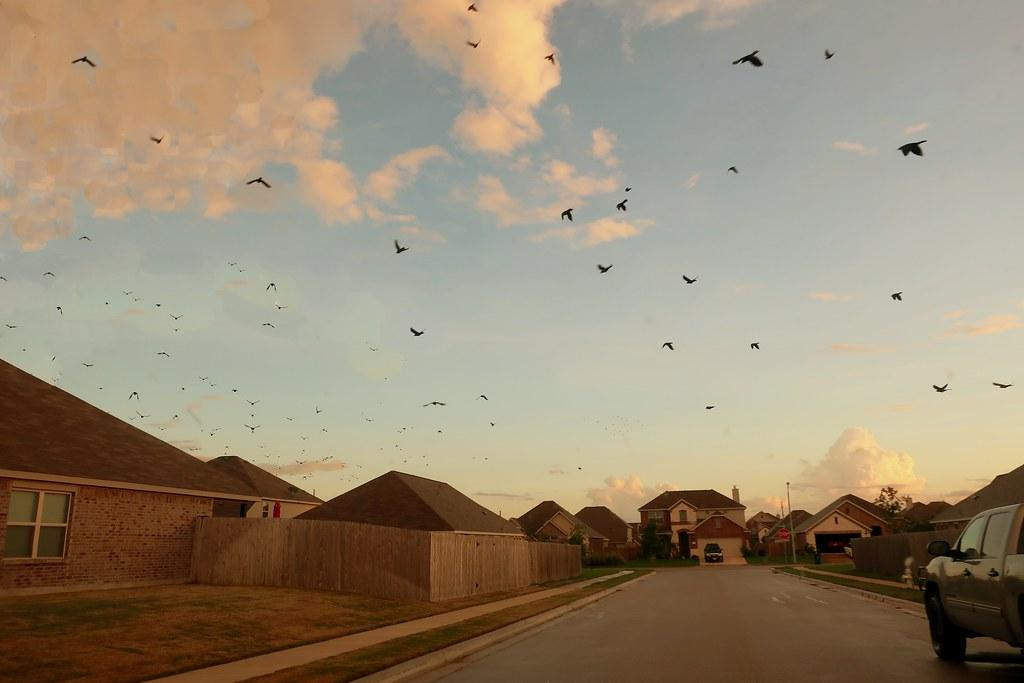car: (923, 503, 1024, 663), (704, 543, 724, 563)
